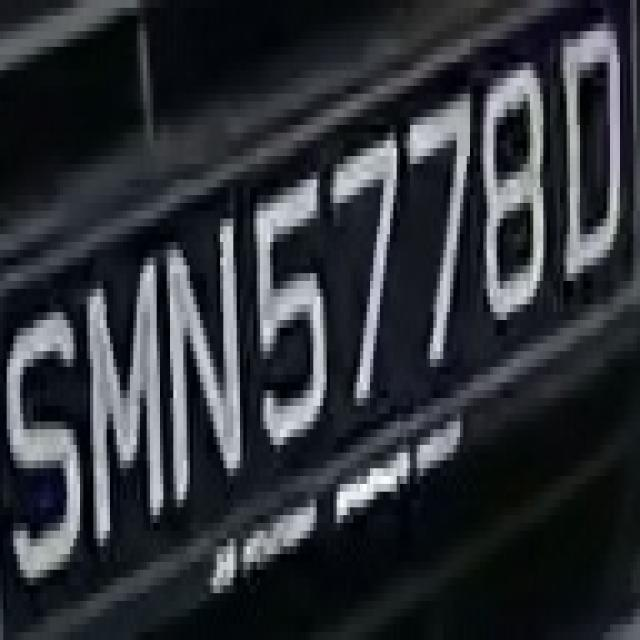5: (257, 180, 333, 468)
7: (314, 132, 404, 422), (397, 94, 480, 398)
8: (487, 62, 553, 328)
D: (543, 31, 630, 281)
M: (76, 274, 166, 546)
N: (153, 218, 250, 523)
S: (17, 281, 80, 609)
